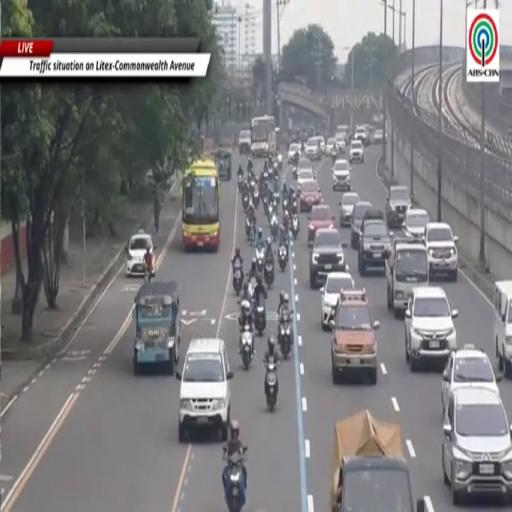bus: (181, 158, 220, 251), (251, 116, 275, 157)
car: (442, 388, 511, 505), (176, 339, 233, 442), (330, 290, 379, 385), (405, 286, 458, 371), (442, 345, 502, 412), (358, 211, 392, 276), (310, 229, 346, 289), (424, 222, 458, 281), (321, 271, 354, 329), (126, 230, 155, 276), (308, 204, 335, 246), (386, 186, 411, 228), (351, 201, 372, 248), (404, 208, 429, 238), (340, 192, 360, 227), (299, 181, 320, 212), (333, 159, 351, 190), (304, 137, 321, 159), (297, 168, 314, 188), (349, 140, 363, 163), (353, 126, 368, 145), (239, 131, 251, 154), (288, 143, 300, 163), (336, 134, 346, 153), (325, 138, 336, 154), (336, 125, 350, 137), (317, 136, 326, 154), (373, 130, 383, 145)
jeepney: (133, 282, 180, 375), (215, 148, 232, 180)
motorcycle: (225, 447, 246, 511), (265, 358, 278, 411), (278, 311, 292, 359), (240, 325, 253, 370), (254, 298, 266, 337), (233, 265, 243, 296), (264, 262, 274, 289), (270, 212, 279, 241), (245, 216, 254, 241), (278, 246, 287, 271), (248, 278, 255, 309), (256, 248, 264, 274), (291, 214, 299, 239), (267, 202, 275, 221), (242, 192, 250, 211), (253, 187, 259, 207), (292, 152, 299, 169), (144, 267, 151, 284), (262, 195, 268, 214), (331, 147, 337, 165), (282, 197, 288, 213), (273, 162, 279, 178), (249, 175, 255, 191), (292, 166, 298, 180), (273, 190, 279, 204), (277, 154, 282, 170), (263, 170, 269, 182), (238, 175, 242, 190)
truck: (330, 410, 414, 511), (385, 238, 429, 317)
